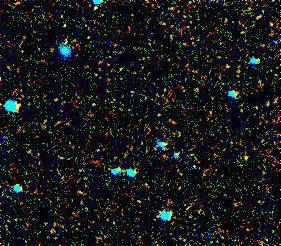star: (232, 142, 262, 172)
